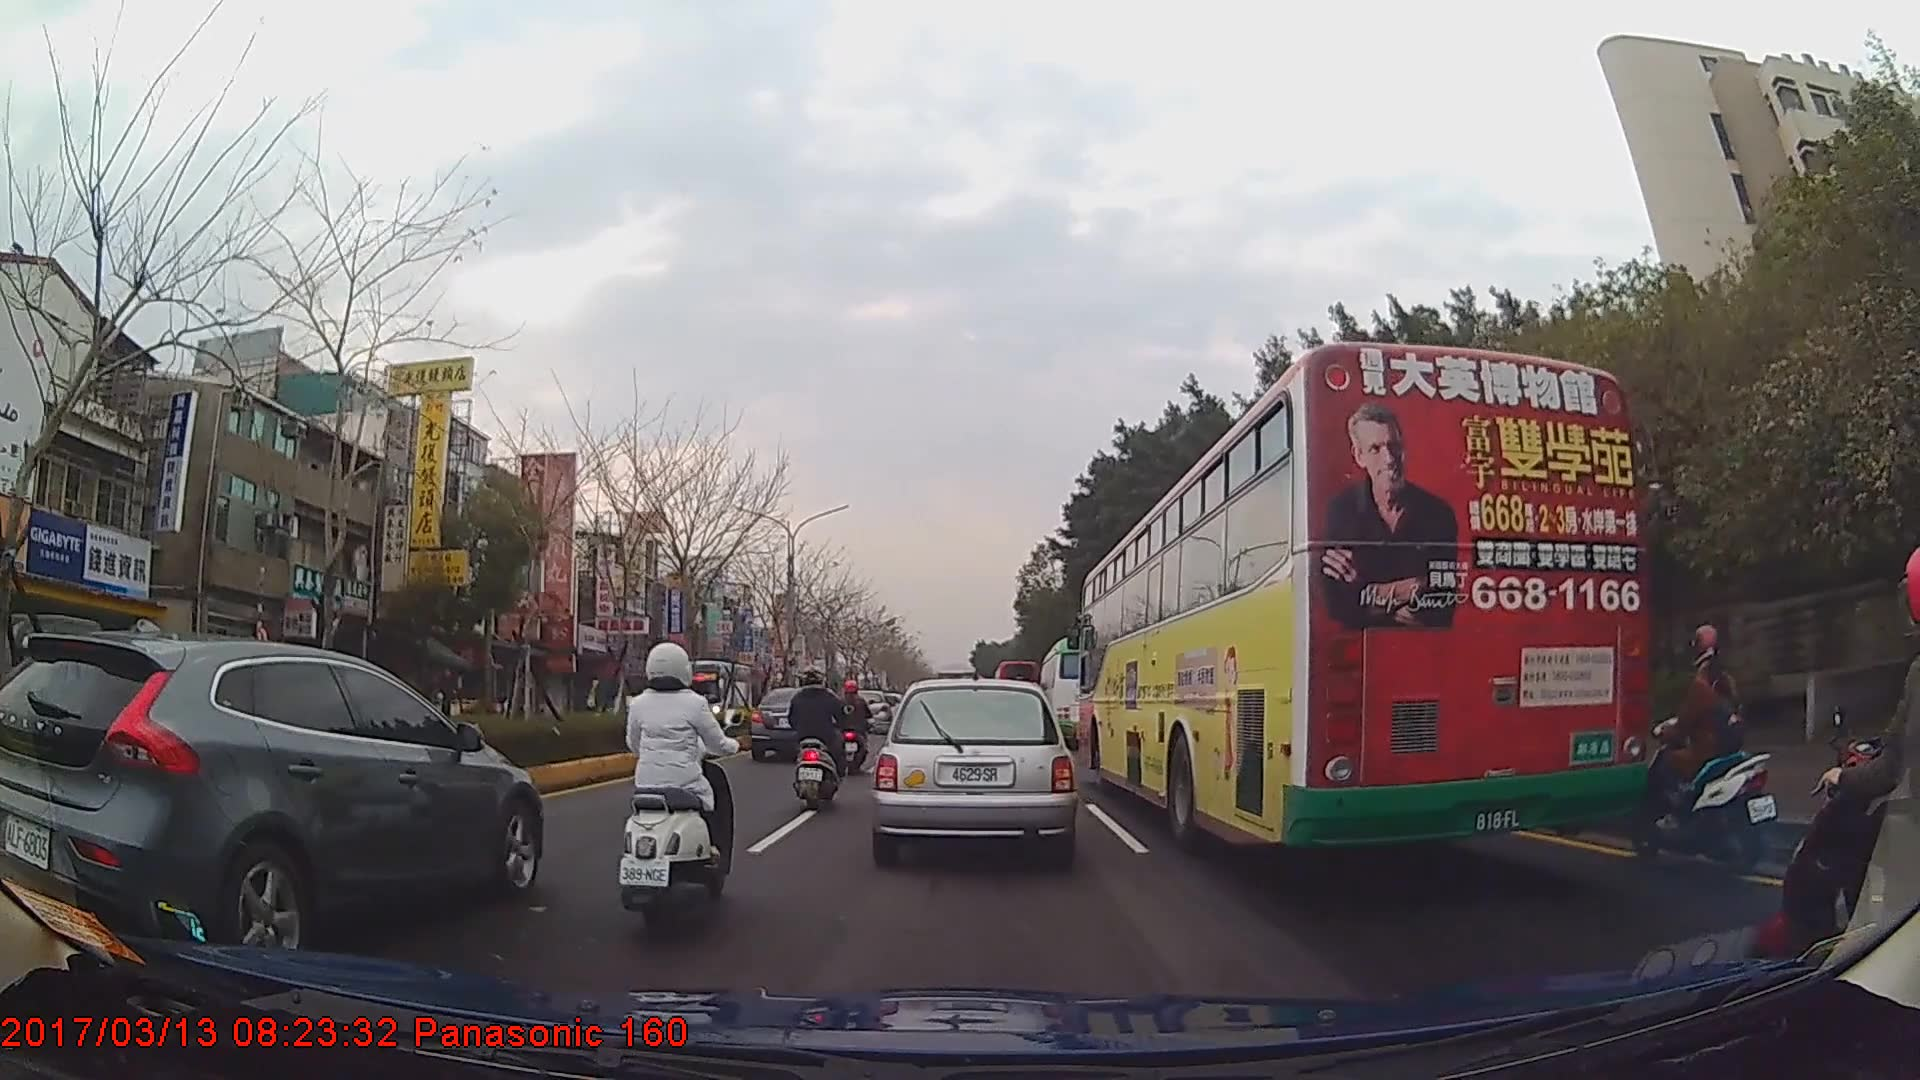rider: (1748, 543, 1920, 1023), (617, 642, 745, 949), (1635, 622, 1778, 871), (784, 668, 844, 812), (836, 681, 873, 773)
vehicle: (1080, 338, 1651, 860), (0, 630, 544, 964), (871, 677, 1074, 865), (1039, 631, 1120, 741), (750, 685, 852, 765), (687, 659, 753, 725)
